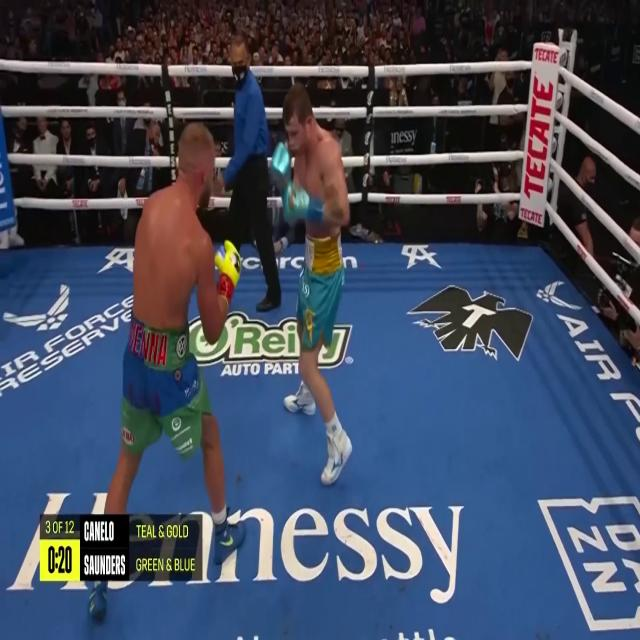boxer_1: (132, 122, 228, 343)
boxer_2: (283, 82, 349, 238)
gloves_1: (214, 239, 241, 303)
gloves_2: (270, 140, 325, 224)
